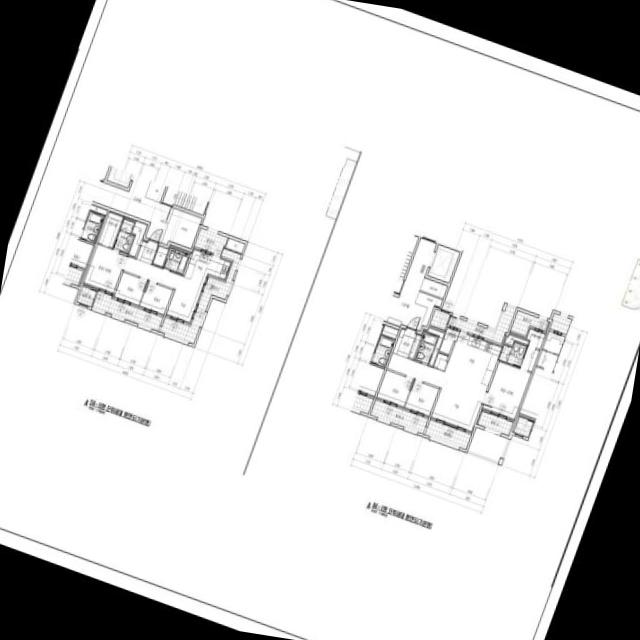background: (0, 0, 640, 640)
space_balconi: (160, 228, 241, 344), (92, 291, 163, 331), (448, 307, 516, 344), (370, 400, 428, 434), (425, 420, 471, 450), (510, 311, 548, 336), (476, 411, 513, 436)
space_bedroom: (482, 347, 539, 421), (83, 244, 127, 295), (376, 370, 413, 408), (404, 381, 439, 418), (112, 273, 147, 307), (139, 282, 173, 317)
space_dressroom: (98, 211, 124, 248), (526, 327, 546, 350)
space_elevator: (428, 245, 459, 283), (107, 167, 133, 188)
space_elevator_hall: (93, 175, 174, 243), (383, 238, 436, 331)
space_front: (393, 328, 422, 359), (137, 240, 159, 265)
space_kitchen: (445, 331, 502, 388), (184, 247, 233, 284)
space_living_room: (387, 354, 487, 433), (124, 257, 203, 325)
space_multipurpose_space: (439, 326, 460, 355)
space_other: (161, 209, 201, 249), (415, 292, 442, 331), (427, 327, 445, 366), (129, 221, 148, 257), (420, 278, 447, 299), (145, 181, 166, 203), (430, 309, 450, 331), (153, 245, 169, 267), (226, 239, 245, 253), (505, 335, 529, 346), (434, 353, 448, 371)
space_outdoor_room: (77, 286, 96, 307)
space_staircase: (394, 236, 418, 293), (163, 187, 208, 215)
space_toilet: (415, 332, 438, 364), (499, 343, 527, 367), (114, 220, 134, 253), (164, 248, 189, 274)
